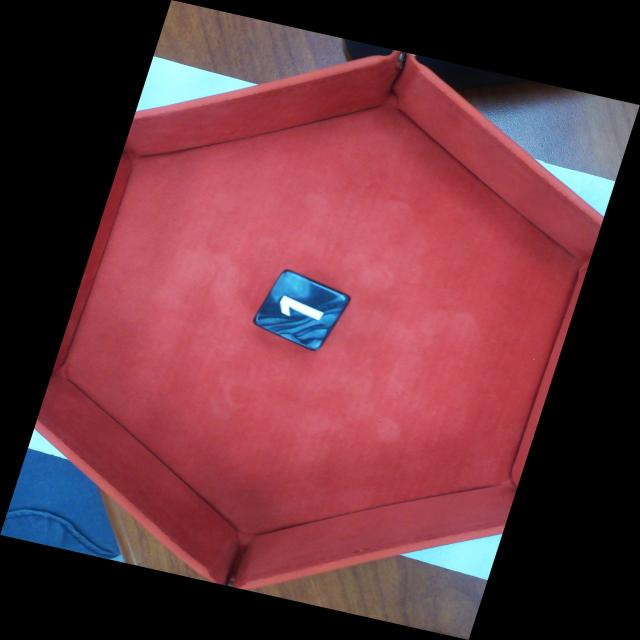dice: (256, 272, 348, 349)
